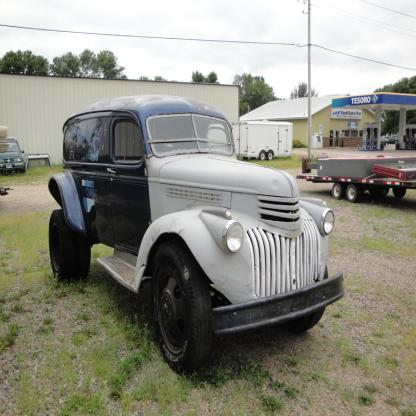Car: (47, 95, 344, 374), (0, 137, 24, 172)
